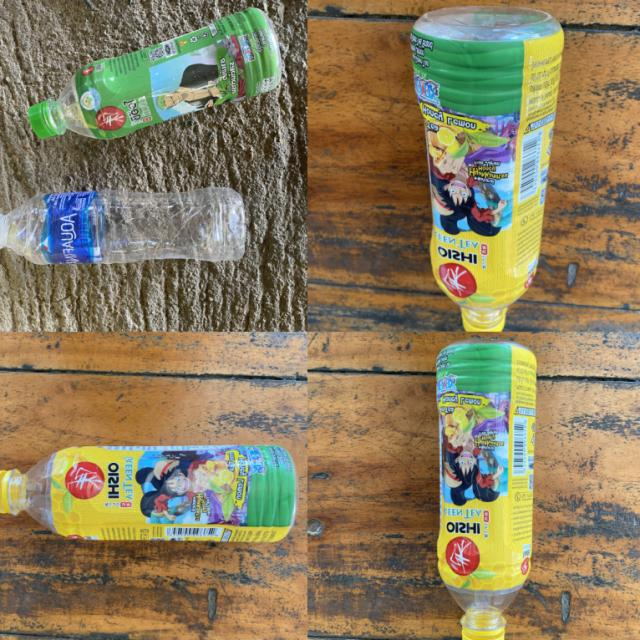plastik: (411, 7, 562, 332), (28, 8, 281, 140), (435, 340, 537, 640), (0, 446, 298, 542), (0, 187, 246, 265)
